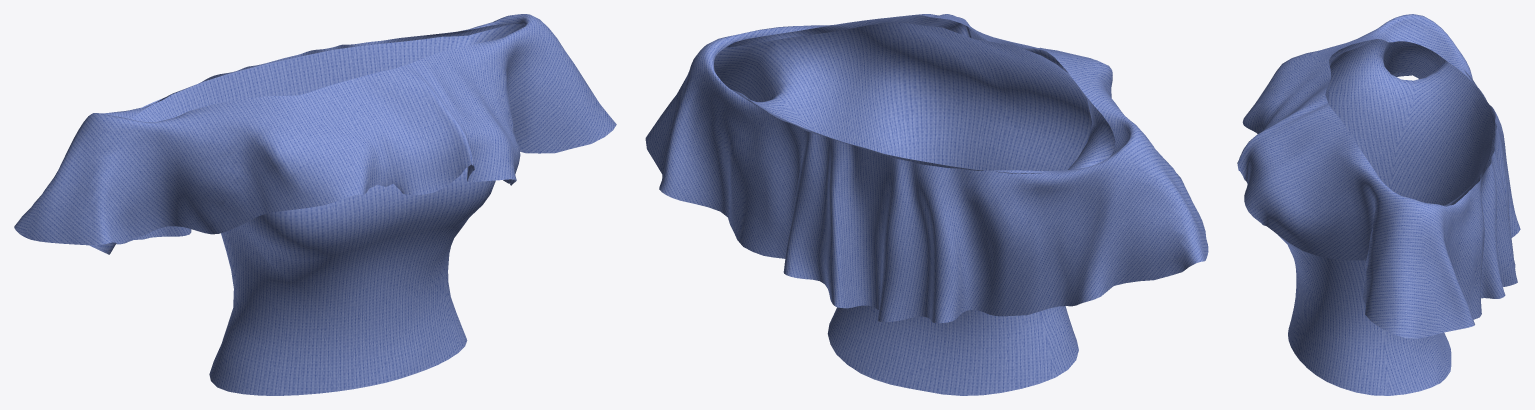
Rendered from off_the_shoulder_shirt_-_ngchipv.glb.
The picture shows the model from 3 angles, left to right: view 1: azimuth 30°, elevation 25°; view 2: azimuth 150°, elevation 25°; view 3: azimuth 270°, elevation 25°; orthographic projection. The views are drawn at different scales.
Parts seen in each view (by area): view 1: OffTheShoulderShirt; view 2: OffTheShoulderShirt; view 3: OffTheShoulderShirt.
Part boxes in pixels (box(x1,y1,x2,y2)): OffTheShoulderShirt: box(14, 14, 616, 395); OffTheShoulderShirt: box(645, 14, 1208, 395); OffTheShoulderShirt: box(1237, 14, 1520, 395).
Size of the model in its own units: 6.87 by 3.57 by 3.33.
Materials: 1 (1 with a texture image).
